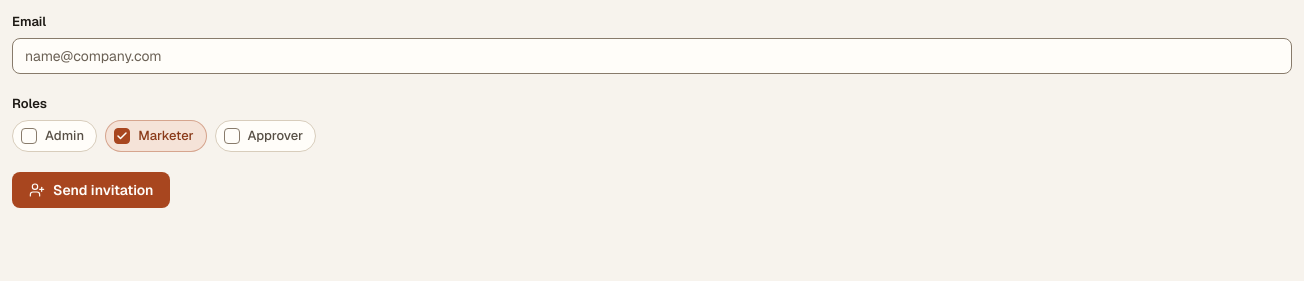
Test: shows why the core refused the invitation
Type "priya@example.com" into the field labelled "Email".
click(652, 56); type("priya@example.com")  # box [12,38,1292,74]
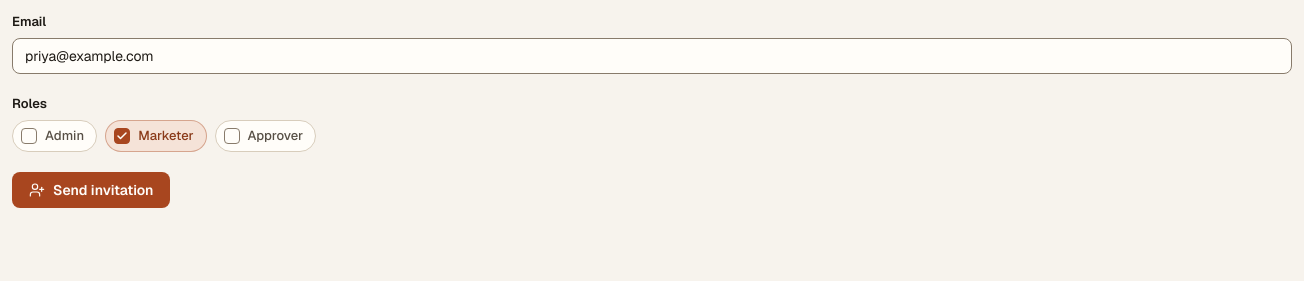
Click the button "Send invitation".
click(91, 190)  # box [12,172,170,208]
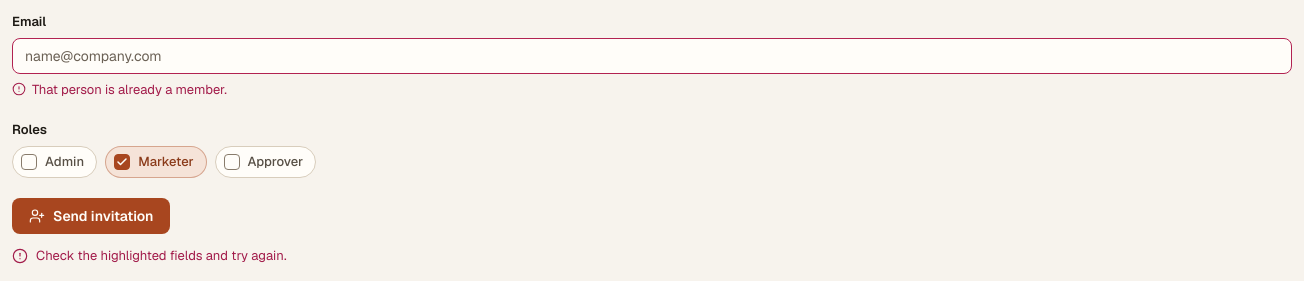
Result: the text "That person is already a member." is shown at [32,80,227,100]
